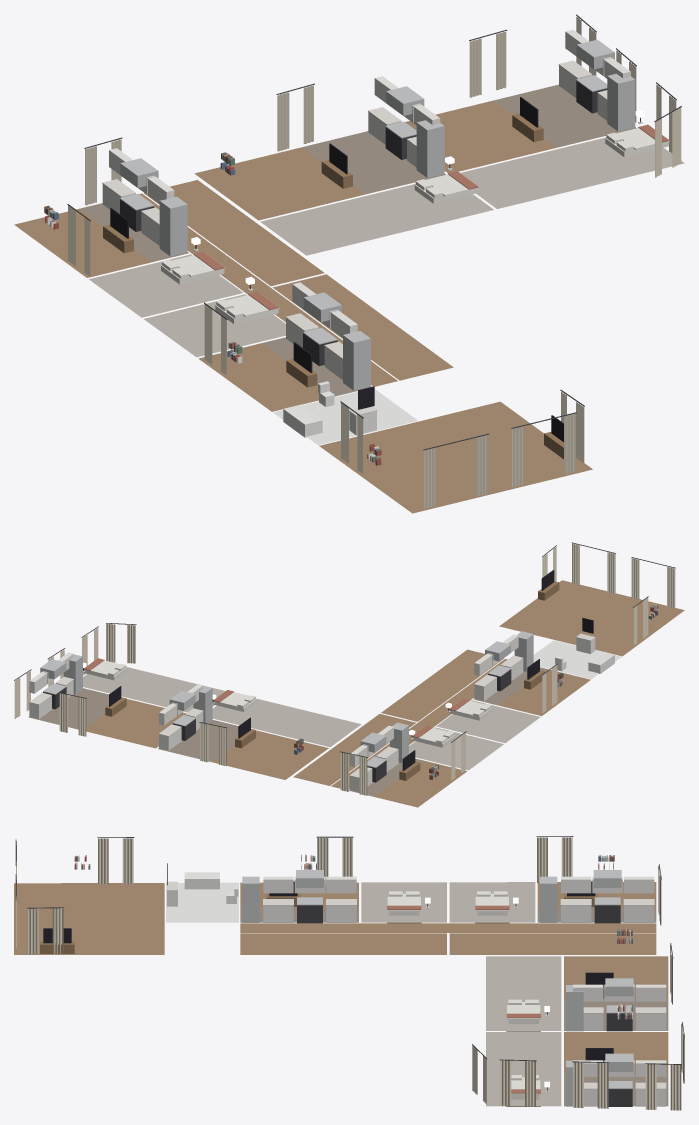
File: fine-s1.glb
The picture shows the model from 3 angles, top to bottom: view 1: azimuth 30°, elevation 25°; view 2: azimuth 150°, elevation 25°; view 3: azimuth 270°, elevation 25°; orthographic projection. The views are drawn at different scales.
Visible parts, largest first — view 1: soft-s1, fridge.009, range.005, range.004, range.009, range.008, fridge.008, fridge.004, fridge.005, vanity.000, bathtub.000, tv-console.009 (+3 smaller); view 2: soft-s1, range.004, range.008, range.009, range.005, fridge.008, fridge.009, vanity.000, fridge.005, fridge.004, counter-run.008, counter-run.016 (+5 smaller); view 3: soft-s1, range.009, range.008, range.004, range.005, fridge.008, fridge.009, fridge.004, counter-run.008, counter-run.018, counter-run.019, counter-run.016 (+11 smaller).
Boxes of the visible parts, x1,y1,x2,y2 form: soft-s1: [14, 14, 684, 513]; fridge.009: [159, 196, 187, 256]; range.005: [576, 39, 614, 113]; range.004: [385, 86, 424, 159]; range.009: [120, 158, 158, 231]; range.008: [303, 292, 341, 366]; fridge.008: [343, 331, 370, 390]; fridge.004: [416, 120, 444, 177]; fridge.005: [607, 73, 635, 131]; vanity.000: [349, 386, 377, 435]; bathtub.000: [283, 404, 322, 437]; tv-console.009: [286, 342, 317, 387]; soft-s1: [14, 542, 684, 807]; range.004: [169, 691, 195, 740]; range.008: [485, 641, 511, 691]; range.009: [360, 732, 386, 782]; range.005: [40, 659, 66, 709]; fridge.008: [514, 631, 533, 671]; fridge.009: [390, 722, 408, 762]; vanity.000: [576, 617, 595, 653]; fridge.005: [63, 654, 82, 693]; fridge.004: [193, 686, 212, 723]; counter-run.008: [159, 724, 181, 750]; counter-run.016: [474, 674, 496, 700]; soft-s1: [14, 836, 684, 1110]; range.009: [593, 870, 621, 923]; range.008: [296, 870, 323, 923]; range.004: [605, 978, 633, 1031]; range.005: [605, 1053, 633, 1106]; fridge.008: [242, 876, 259, 922]; fridge.009: [540, 876, 557, 922]; fridge.004: [566, 985, 583, 1031]; counter-run.008: [635, 1007, 666, 1030]; counter-run.018: [623, 899, 654, 922]; counter-run.019: [560, 899, 591, 922]; counter-run.016: [326, 899, 356, 922].
Size of the model in its own units: 24.98 by 2.5 by 30.91.
